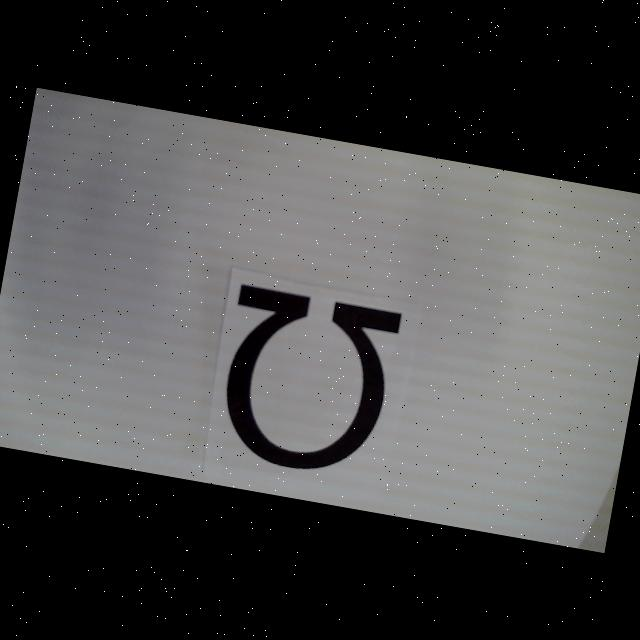OMEGA: (210, 283, 402, 482)
